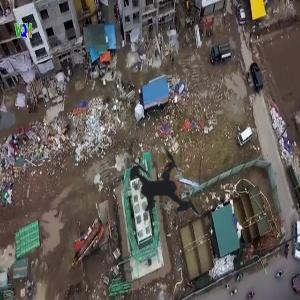drone: (96, 118, 233, 255)
